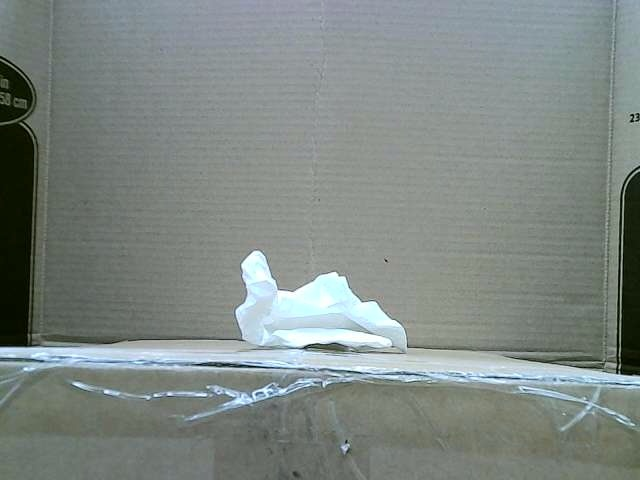Tissue: (235, 250, 409, 349)
